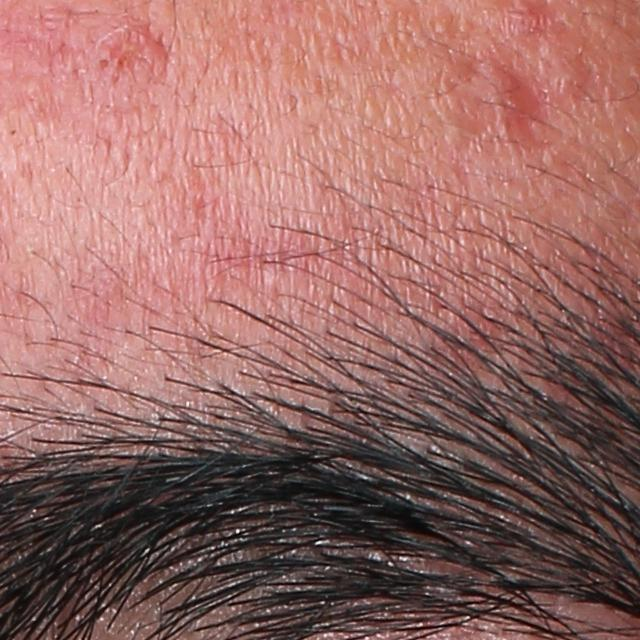papule: (82, 26, 172, 106), (462, 61, 536, 128)
